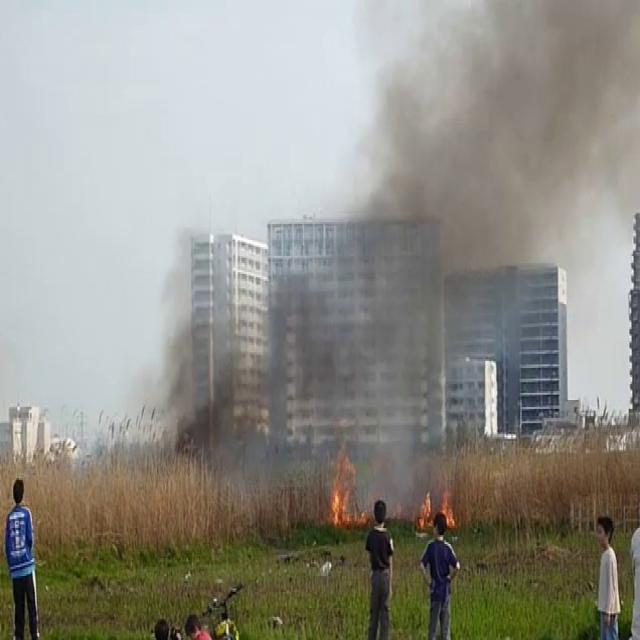Fire: (324, 442, 370, 532), (414, 476, 458, 536)
Smoke: (310, 0, 640, 478), (120, 233, 316, 486)
